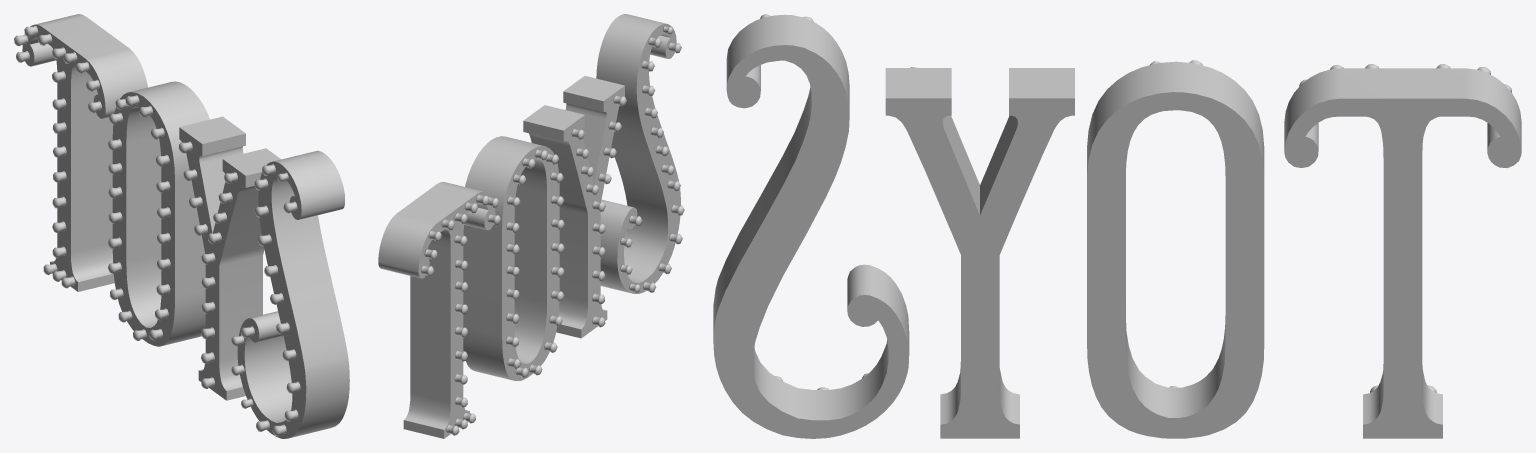
The model's file is SM_ToyshopLetter_01a.fbx.
The picture shows the model from 3 angles, left to right: view 1: azimuth 30°, elevation 25°; view 2: azimuth 150°, elevation 25°; view 3: azimuth 270°, elevation 25°; orthographic projection. The views are drawn at different scales.
Parts seen in each view (by area): view 1: SM_ToyshopLetter_01a_LOD0; view 2: SM_ToyshopLetter_01a_LOD0; view 3: SM_ToyshopLetter_01a_LOD0.
Boxes of the visible parts, x1,y1,x2,y2 form: SM_ToyshopLetter_01a_LOD0: (14, 14, 349, 438); SM_ToyshopLetter_01a_LOD0: (378, 14, 684, 438); SM_ToyshopLetter_01a_LOD0: (713, 14, 1521, 438).
Size of the model in its own units: 13.39 by 116 by 62.17.
